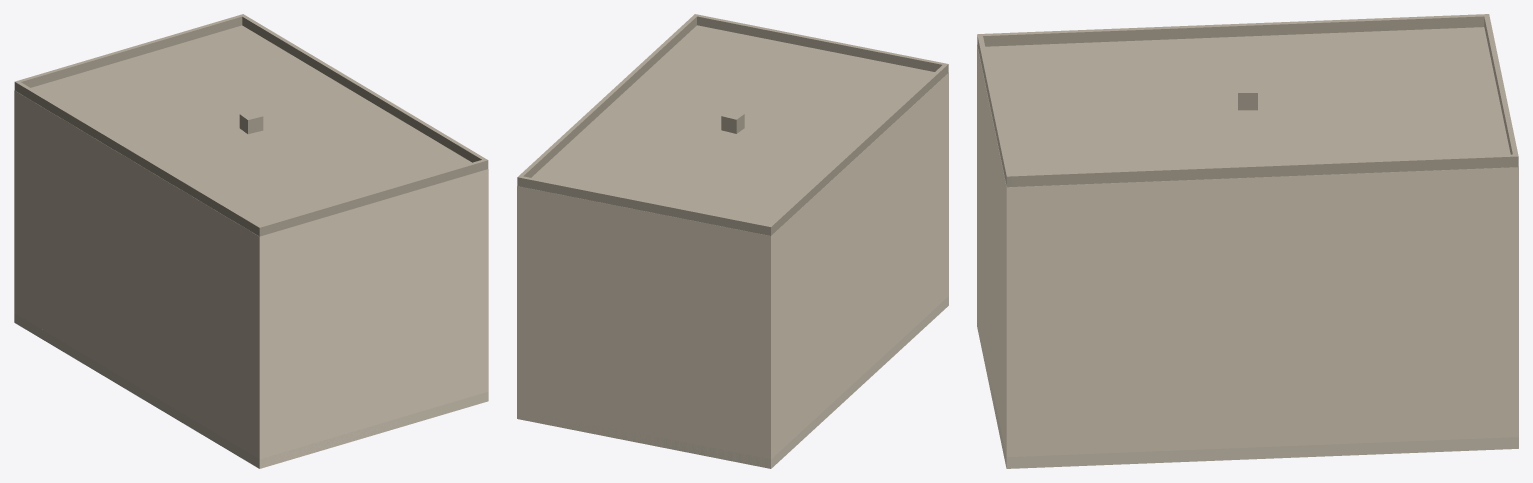
File: cop_art_deco_carioca_02__way_586695371.fbx
The picture shows the model from 3 angles, left to right: view 1: azimuth 30°, elevation 25°; view 2: azimuth 150°, elevation 25°; view 3: azimuth 270°, elevation 25°; orthographic projection. The views are drawn at different scales.
Visible parts, largest first — view 1: cop_art_deco_carioca_02__way_586695371_wall, cop_art_deco_carioca_02__way_586695371_roof, cop_art_deco_carioca_02__way_586695371_stone; view 2: cop_art_deco_carioca_02__way_586695371_wall, cop_art_deco_carioca_02__way_586695371_roof, cop_art_deco_carioca_02__way_586695371_stone; view 3: cop_art_deco_carioca_02__way_586695371_wall, cop_art_deco_carioca_02__way_586695371_roof, cop_art_deco_carioca_02__way_586695371_stone.
Boxes of the visible parts, left/top/right/bottom form: cop_art_deco_carioca_02__way_586695371_wall: left=14, top=90, right=488, bottom=468; cop_art_deco_carioca_02__way_586695371_roof: left=14, top=14, right=488, bottom=236; cop_art_deco_carioca_02__way_586695371_stone: left=14, top=313, right=488, bottom=468; cop_art_deco_carioca_02__way_586695371_wall: left=517, top=73, right=948, bottom=468; cop_art_deco_carioca_02__way_586695371_roof: left=517, top=14, right=948, bottom=235; cop_art_deco_carioca_02__way_586695371_stone: left=521, top=296, right=948, bottom=468; cop_art_deco_carioca_02__way_586695371_wall: left=977, top=45, right=1518, bottom=468; cop_art_deco_carioca_02__way_586695371_roof: left=977, top=14, right=1518, bottom=187; cop_art_deco_carioca_02__way_586695371_stone: left=990, top=386, right=1518, bottom=468.
Size of the model in its own units: 2233 by 1912 by 3140.
